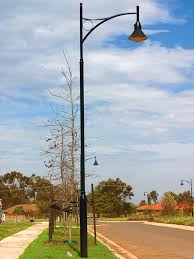light_pole: (76, 15, 91, 259)
